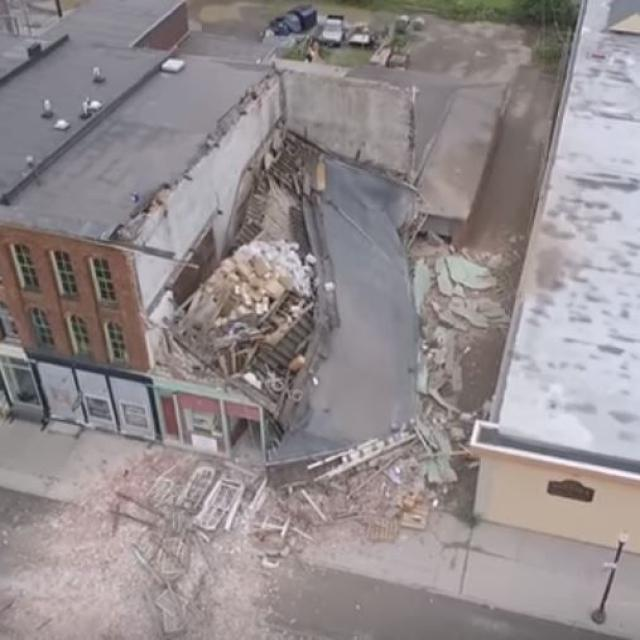collapsed_building: (152, 139, 474, 475)
